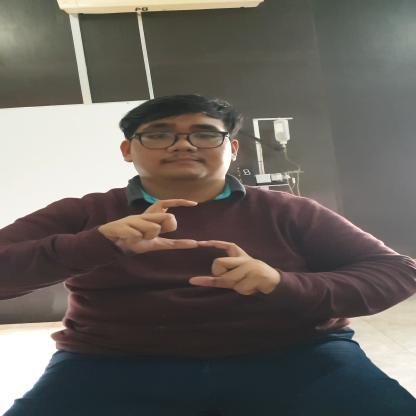S: (116, 198, 272, 297)
